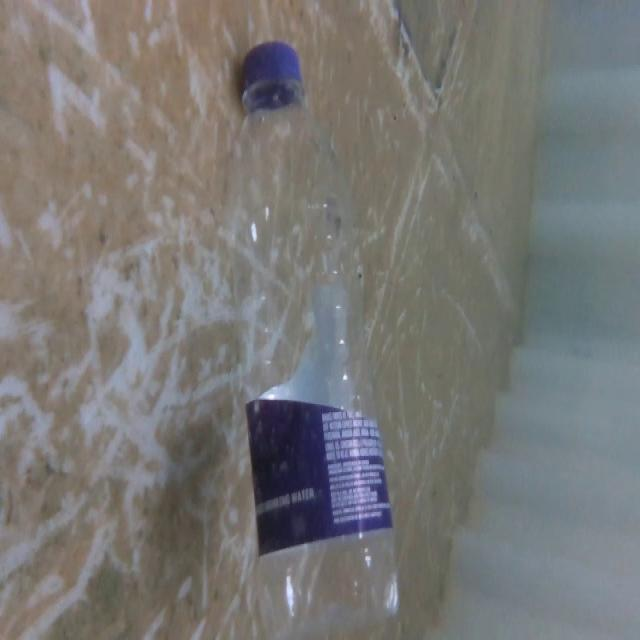plastic bottle: (218, 34, 408, 640)
